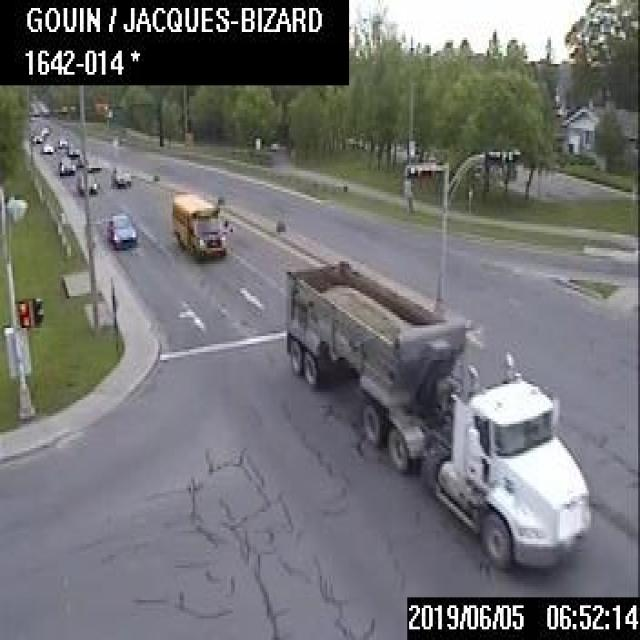bus: (170, 192, 232, 259)
vehicle: (284, 258, 591, 568), (106, 212, 136, 248), (75, 173, 99, 194), (110, 163, 130, 187), (57, 155, 74, 174), (66, 144, 79, 156), (40, 140, 53, 152), (57, 135, 67, 146), (32, 132, 44, 141), (40, 124, 48, 132)
